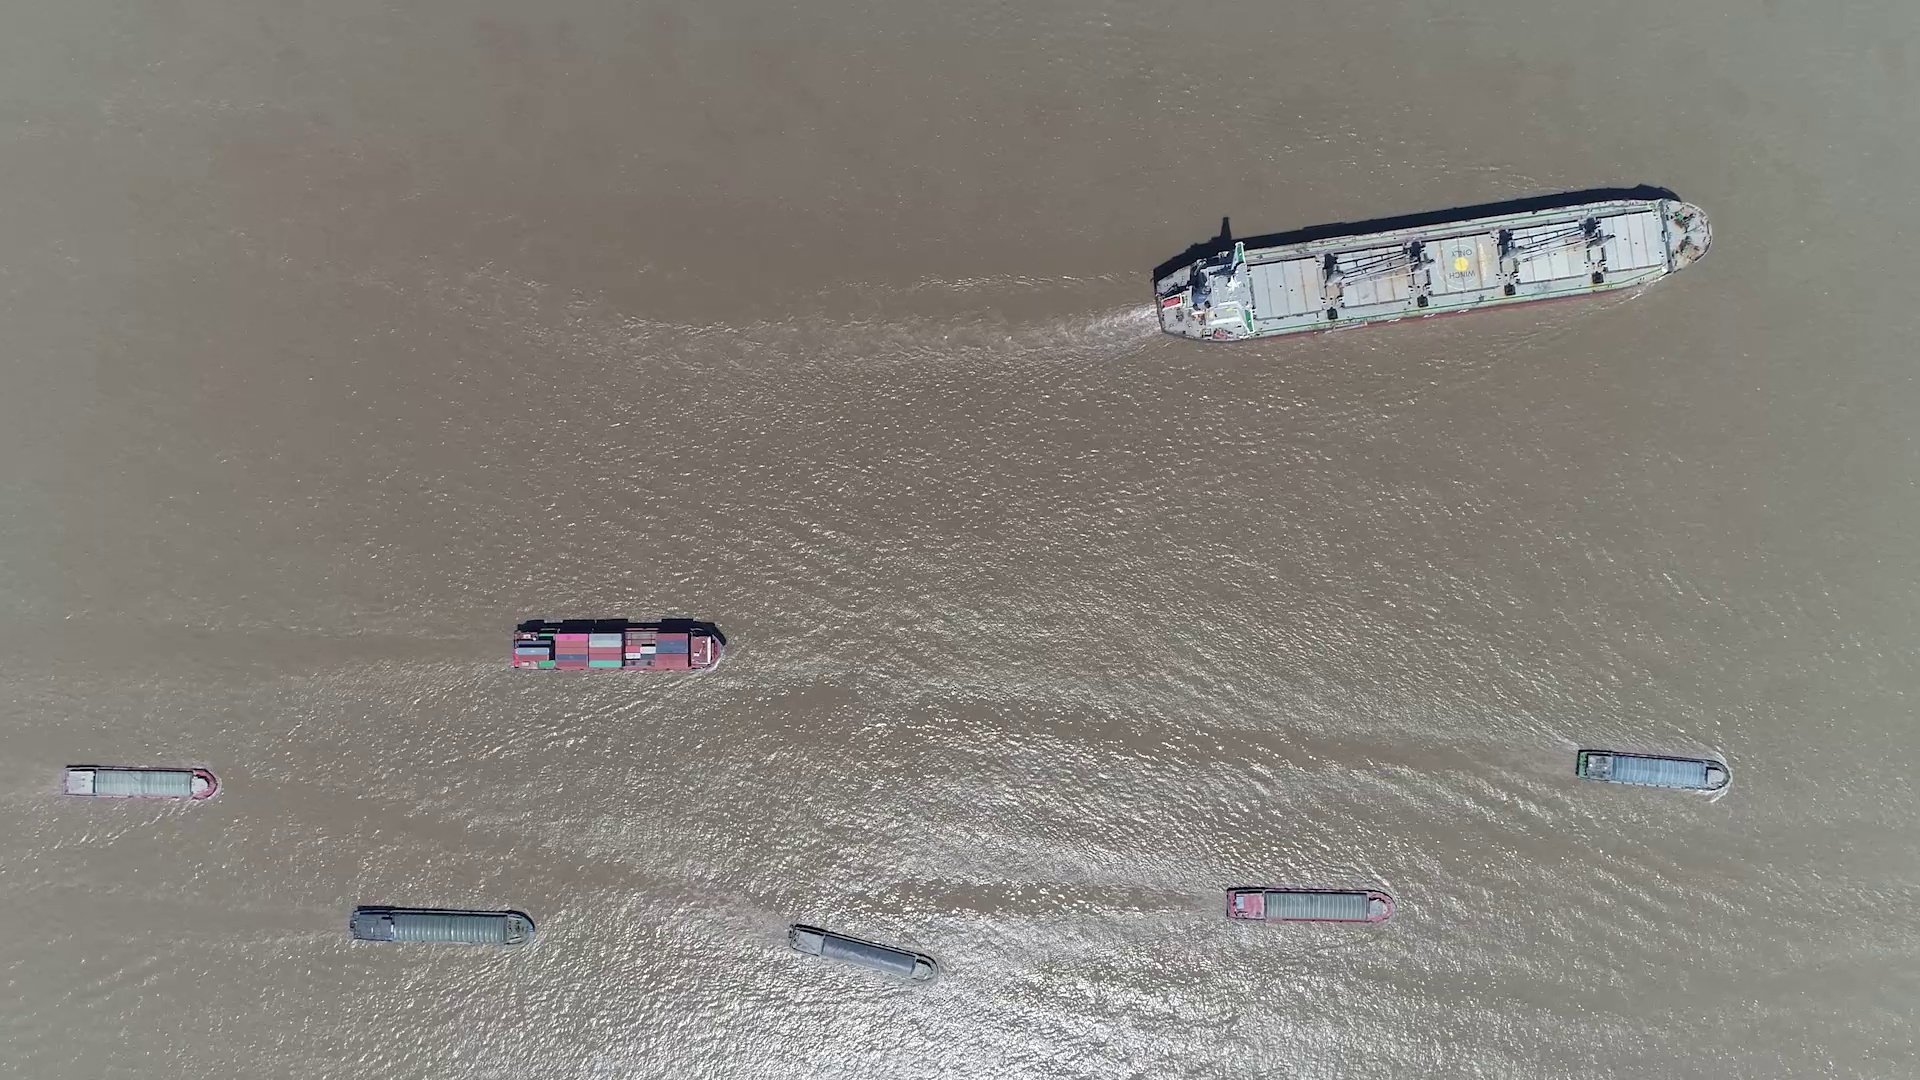ship: (1149, 199, 1714, 342), (510, 622, 725, 673), (786, 923, 938, 982), (351, 905, 534, 945), (1576, 749, 1730, 793), (1226, 887, 1394, 924), (62, 765, 218, 800)
